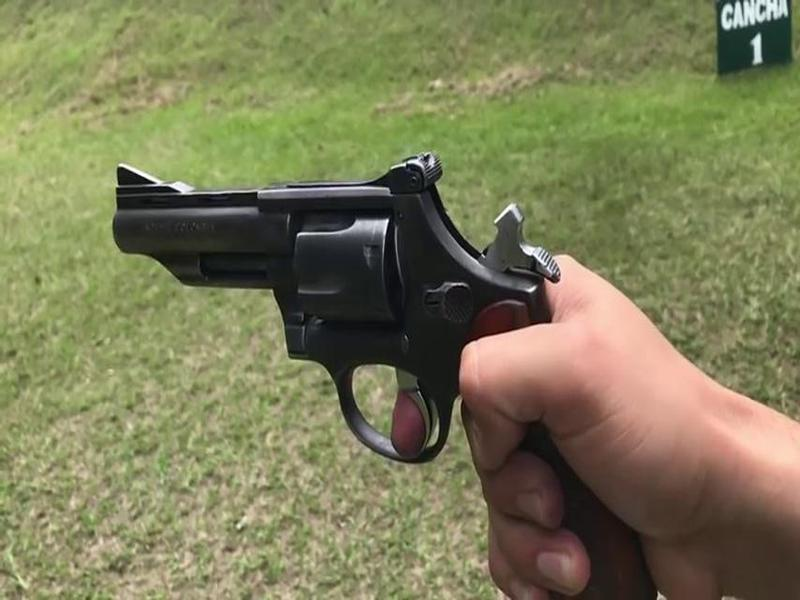Revolver: (104, 131, 580, 492)
